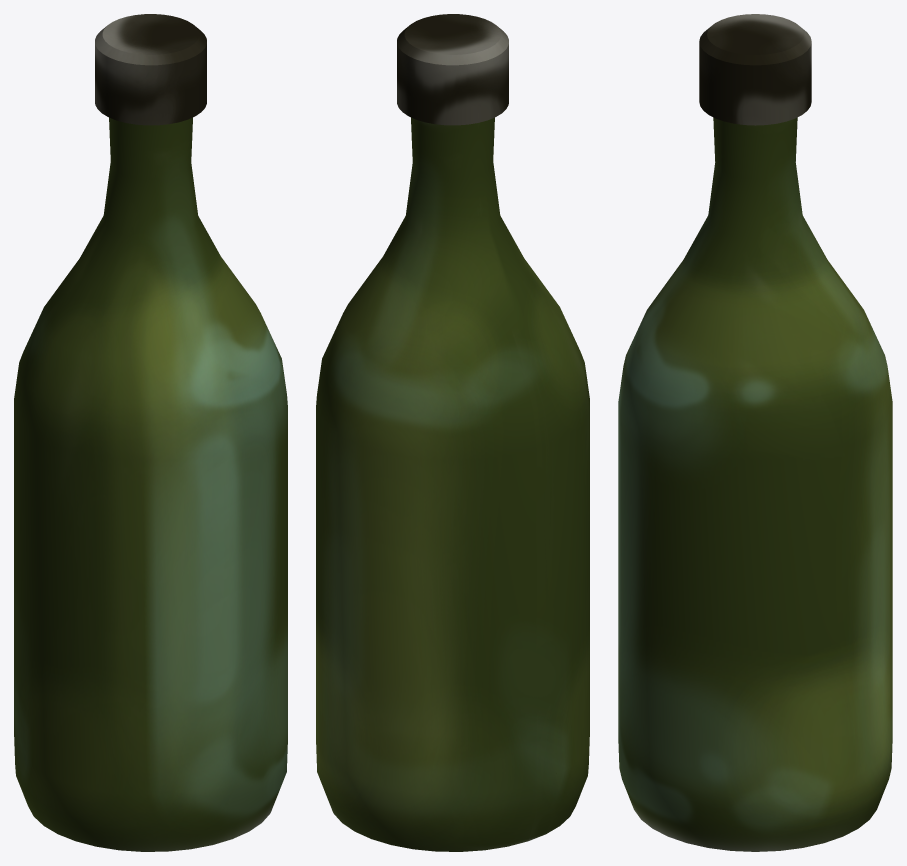
File: Pullo.fbx
The picture shows the model from 3 angles, left to right: view 1: azimuth 30°, elevation 25°; view 2: azimuth 150°, elevation 25°; view 3: azimuth 270°, elevation 25°; orthographic projection.
Parts seen in each view (by area): view 1: Cylinder; view 2: Cylinder; view 3: Cylinder.
Boxes of the visible parts, x1,y1,x2,y2 form: Cylinder: (14,14,287,851); Cylinder: (316,14,589,851); Cylinder: (618,14,892,851).
Size of the model in its own units: 40 by 123 by 40.
